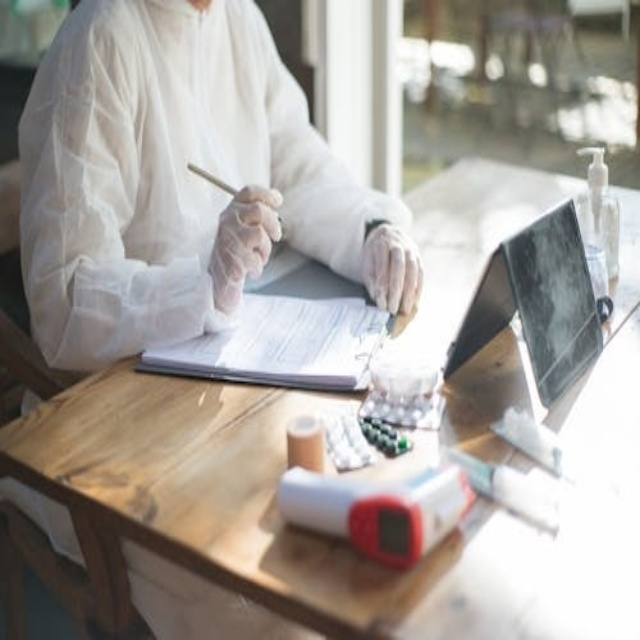Guantes: (208, 185, 284, 318), (362, 222, 425, 320)
